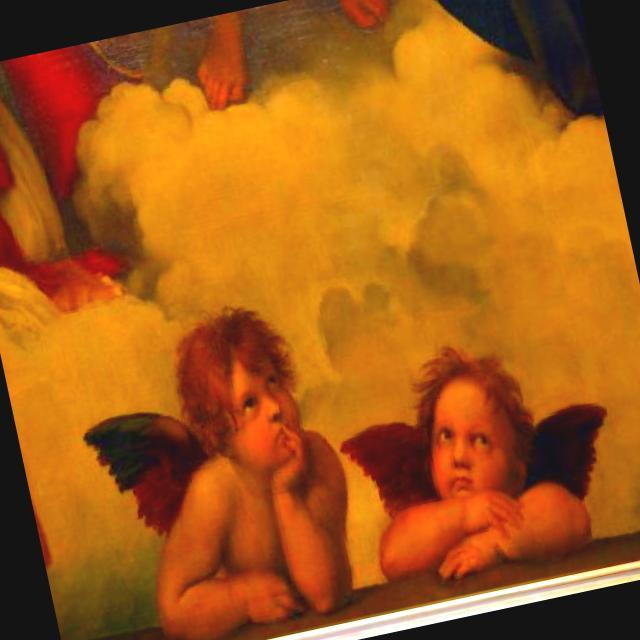Person: (99, 290, 381, 640), (336, 320, 602, 595), (0, 45, 127, 323), (185, 0, 406, 117)
